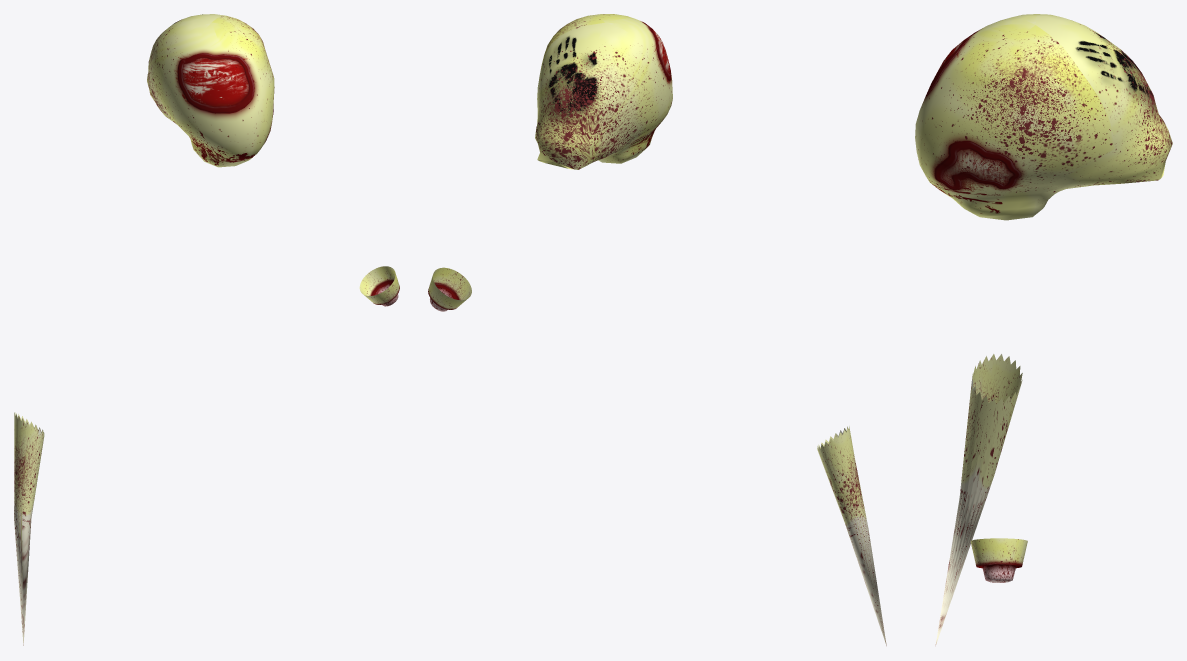
File: EntityThingFBX.fbx
3 renders of one model, left to right at view 1: azimuth 30°, elevation 25°; view 2: azimuth 150°, elevation 25°; view 3: azimuth 270°, elevation 25°, orthographic. The views are drawn at different scales.
Parts seen in each view (by area): view 1: pCylinder4; view 2: pCylinder4; view 3: pCylinder4.
Boxes of the visible parts, <box> form: pCylinder4: <box>14,14,399,645</box>; pCylinder4: <box>428,14,886,645</box>; pCylinder4: <box>915,14,1172,645</box>.
Size of the model in its own units: 28.32 by 37.18 by 11.17.
